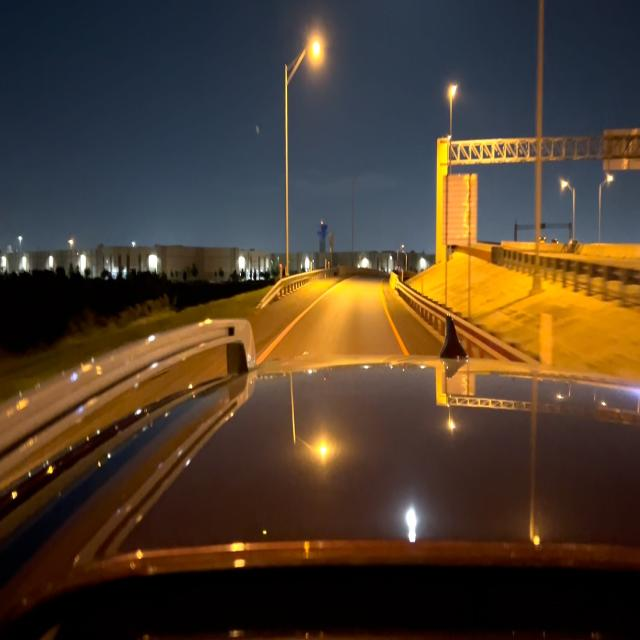back-of-sign: (444, 175, 477, 245), (603, 124, 640, 175)
